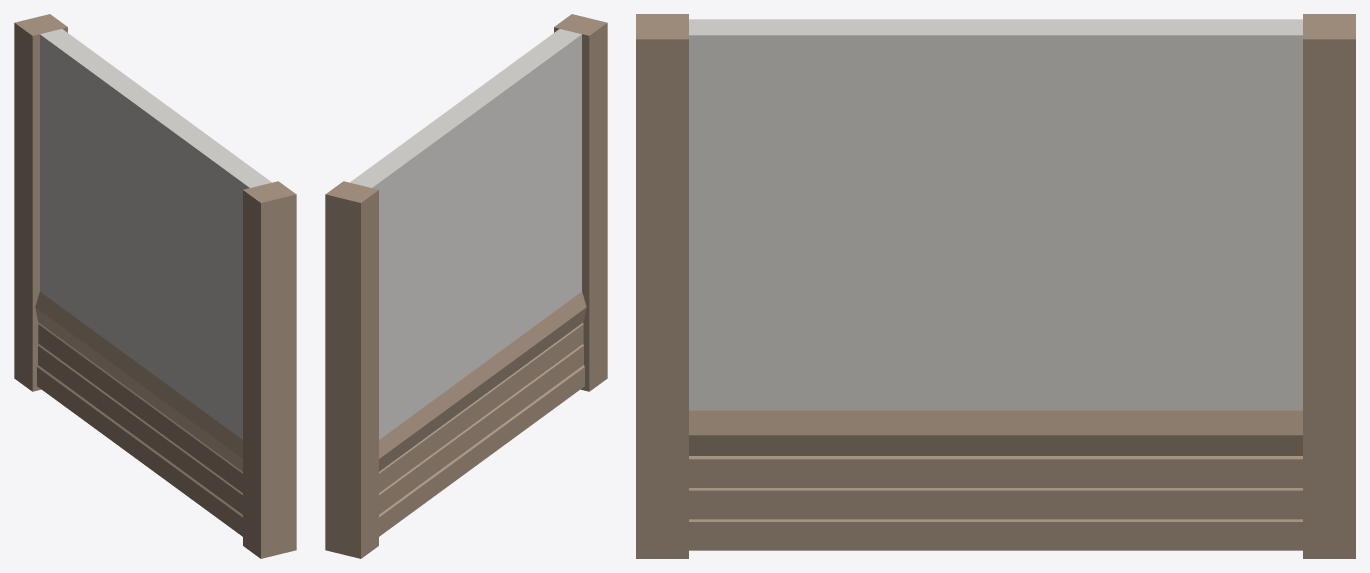
File: Wall03_house01.obj
3 renders of one model, left to right at view 1: azimuth 30°, elevation 25°; view 2: azimuth 150°, elevation 25°; view 3: azimuth 270°, elevation 25°, orthographic. The views are drawn at different scales.
Visible parts, largest first — view 1: wall03_house01_Cube.018; view 2: wall03_house01_Cube.018; view 3: wall03_house01_Cube.018.
Part boxes in pixels (x1,y1,x2,y2): wall03_house01_Cube.018: (14, 14, 296, 558); wall03_house01_Cube.018: (325, 14, 607, 558); wall03_house01_Cube.018: (636, 14, 1355, 558).
Bounding box in the file's own units: 0.4142 × 3.96 × 4.96.
